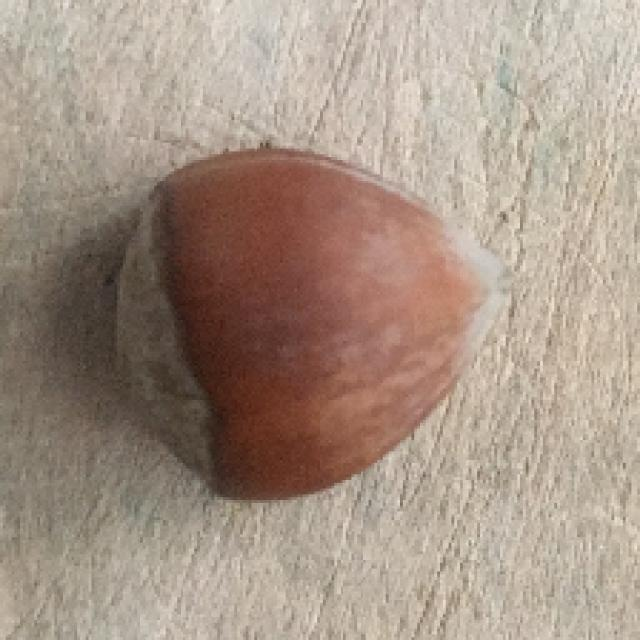qualityHazelnut: (107, 146, 509, 505)
